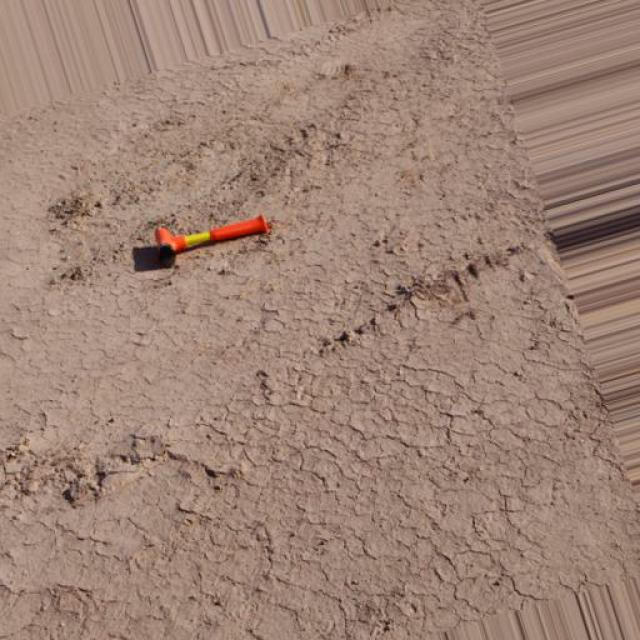mallet: (155, 212, 274, 264)
